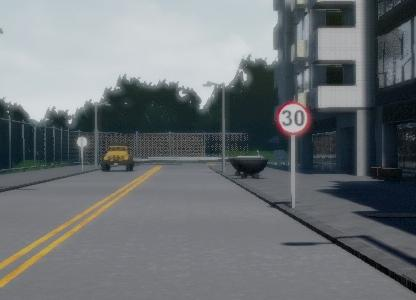Speed_30: (273, 99, 311, 139)
